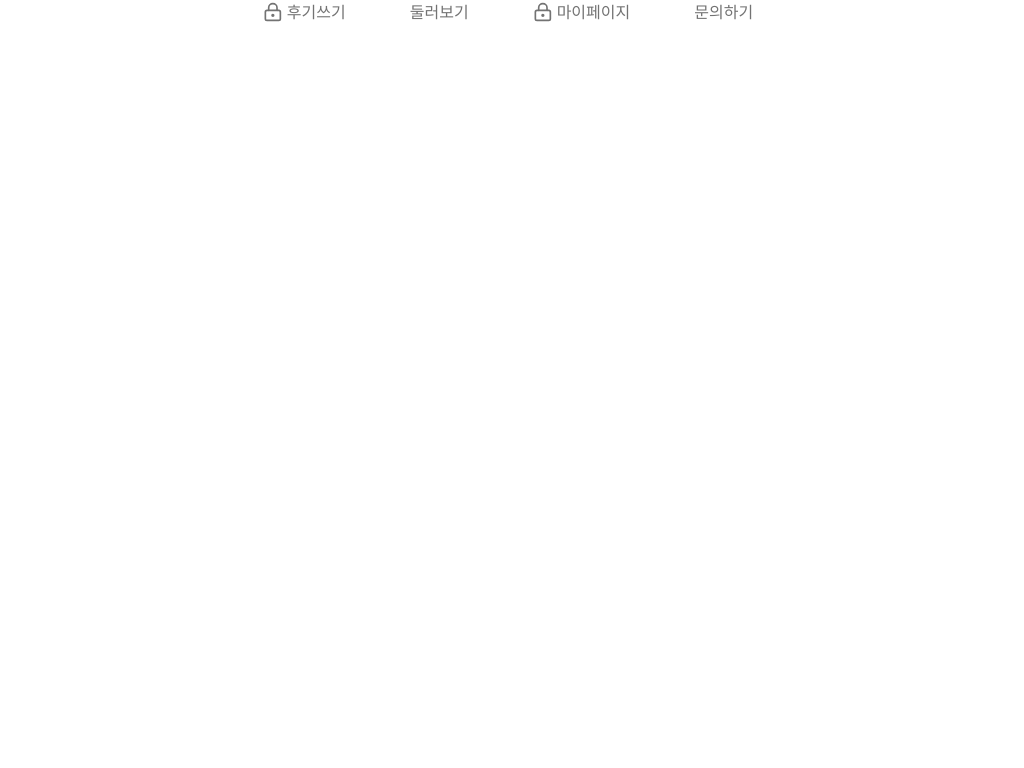
src/widgets/header/nav-bar/ui/Navbar.tsx › 기능 테스트 › 비로그인 사용자는 로그인이 필요한 경로를 클릭했을 때 로그인 안내 문구를 표시한다.
This screenshot has width=1024, height=768.
Click the button with aria-label "마이페이지로 이동" at (581, 12), box top-left (533, 0), bottom-right (630, 24)
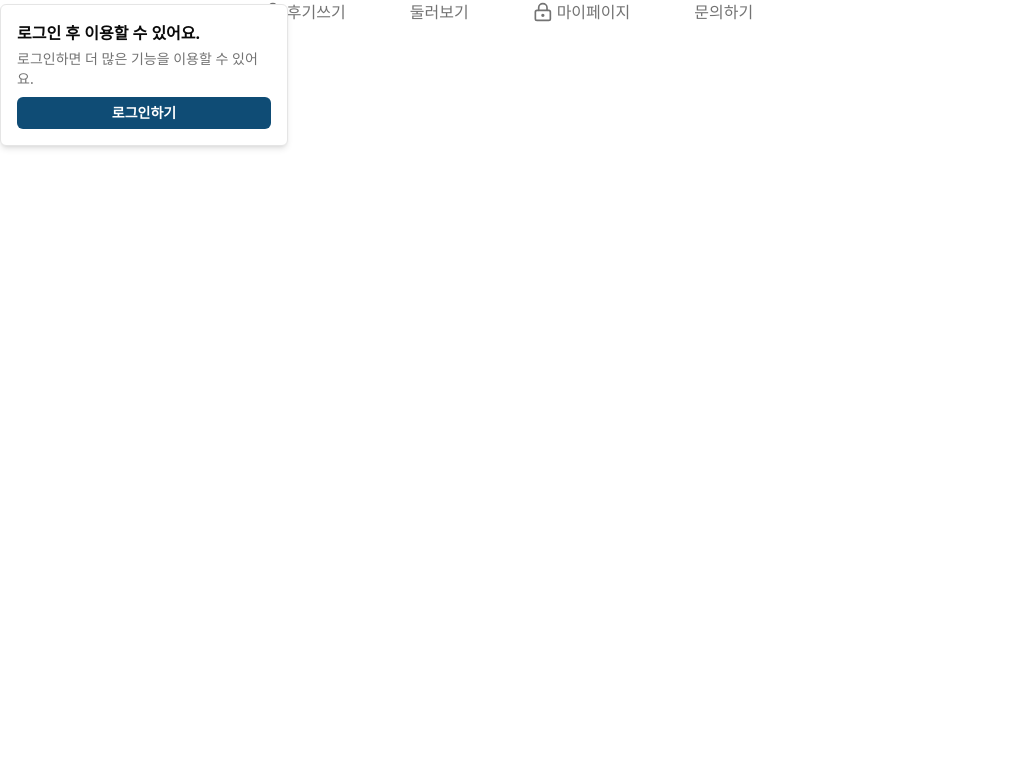
Expected: the heading "로그인 후 이용할 수 있어요." is shown, top-left (17, 22), bottom-right (200, 44)
